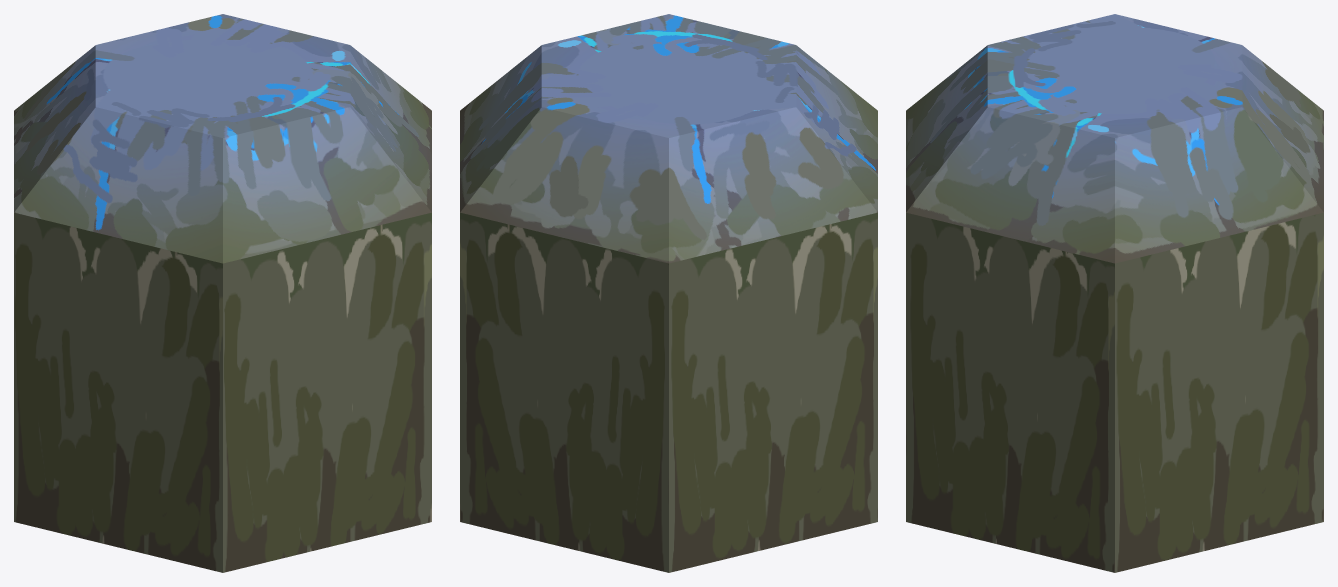
Rendered from tile_mountain.FBX.
3 renders of one model, left to right at view 1: azimuth 30°, elevation 25°; view 2: azimuth 150°, elevation 25°; view 3: azimuth 270°, elevation 25°, orthographic.
Visible parts, largest first — view 1: Cylinder001; view 2: Cylinder001; view 3: Cylinder001.
Part boxes in pixels (<box>): Cylinder001: <box>14,14,431,572</box>; Cylinder001: <box>460,14,877,572</box>; Cylinder001: <box>906,14,1323,572</box>.
Size of the model in its own units: 25.3 by 21.91 by 22.85.
1 material, 1 textured.
